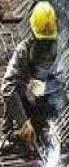gloves: (17, 118, 36, 146)
hard-hat: (30, 0, 58, 40)
